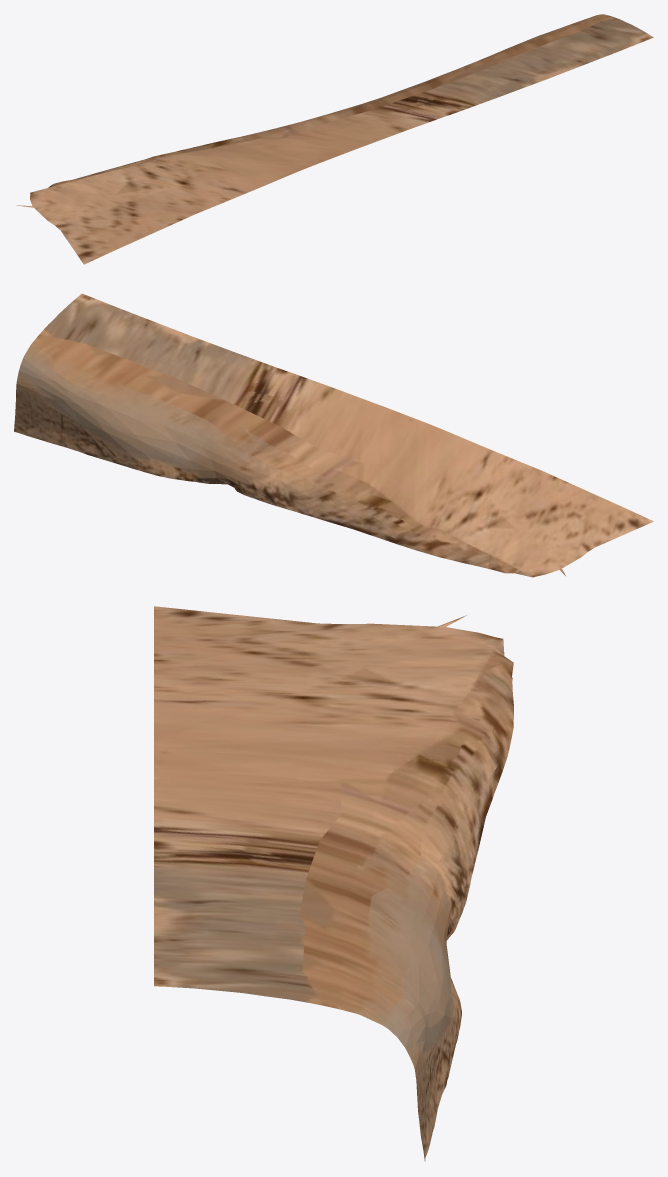
3 renders of one model, top to bottom at view 1: azimuth 30°, elevation 25°; view 2: azimuth 150°, elevation 25°; view 3: azimuth 270°, elevation 25°, orthographic. The views are drawn at different scales.
Size of the model in its own units: 1.92 by 0.2833 by 0.5243.
Materials: 1 (1 with a texture image).
